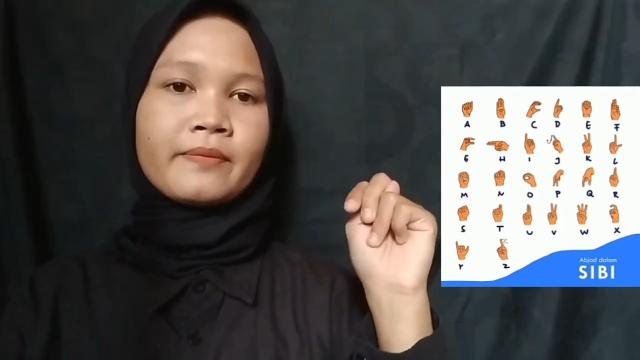N: (341, 173, 442, 292)
